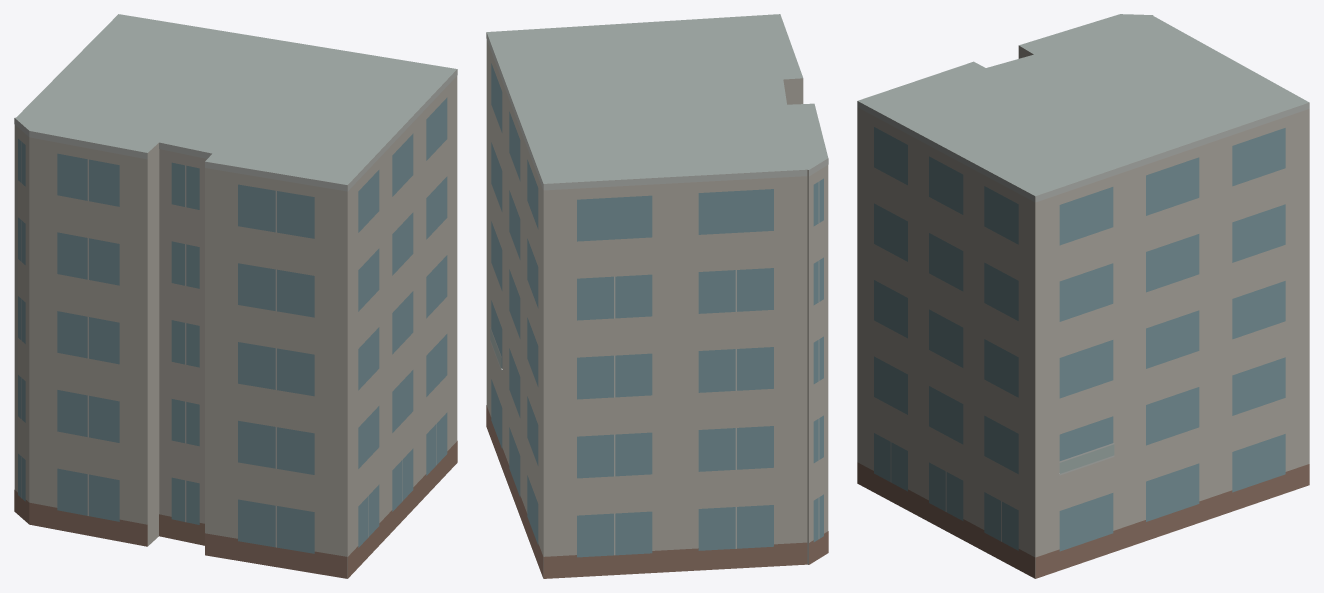
The model's file is survey-upis-32747043.glb.
The picture shows the model from 3 angles, left to right: view 1: azimuth 30°, elevation 25°; view 2: azimuth 150°, elevation 25°; view 3: azimuth 270°, elevation 25°; orthographic projection. The views are drawn at different scales.
Visible parts, largest first — view 1: survey-upis-32747043.tmp; view 2: survey-upis-32747043.tmp; view 3: survey-upis-32747043.tmp.
Part boxes in pixels (box(x1,y1,x2,y2)): survey-upis-32747043.tmp: box(14, 14, 457, 578); survey-upis-32747043.tmp: box(486, 14, 828, 578); survey-upis-32747043.tmp: box(857, 14, 1309, 578).
Size of the model in its own units: 15.24 by 14.91 by 15.98.
